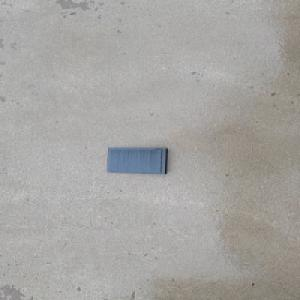PlasticPart: (103, 147, 170, 175)
